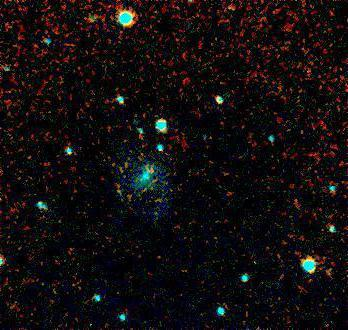star: (107, 177, 137, 207)
